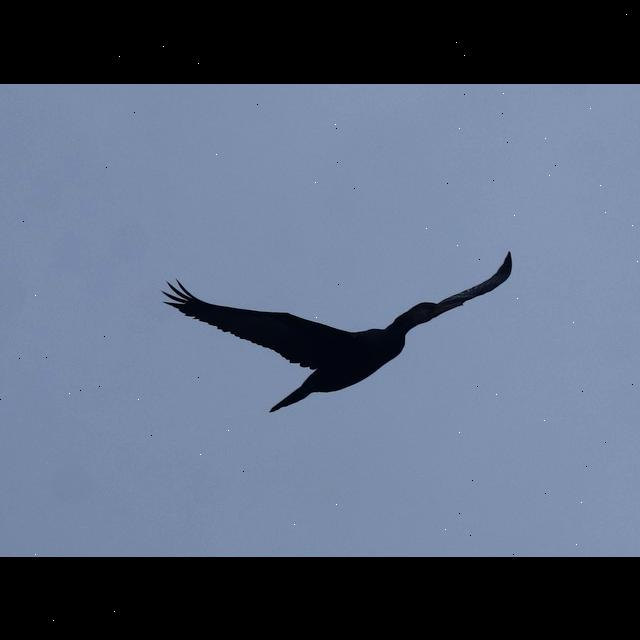cormorant: (156, 262, 530, 410)
